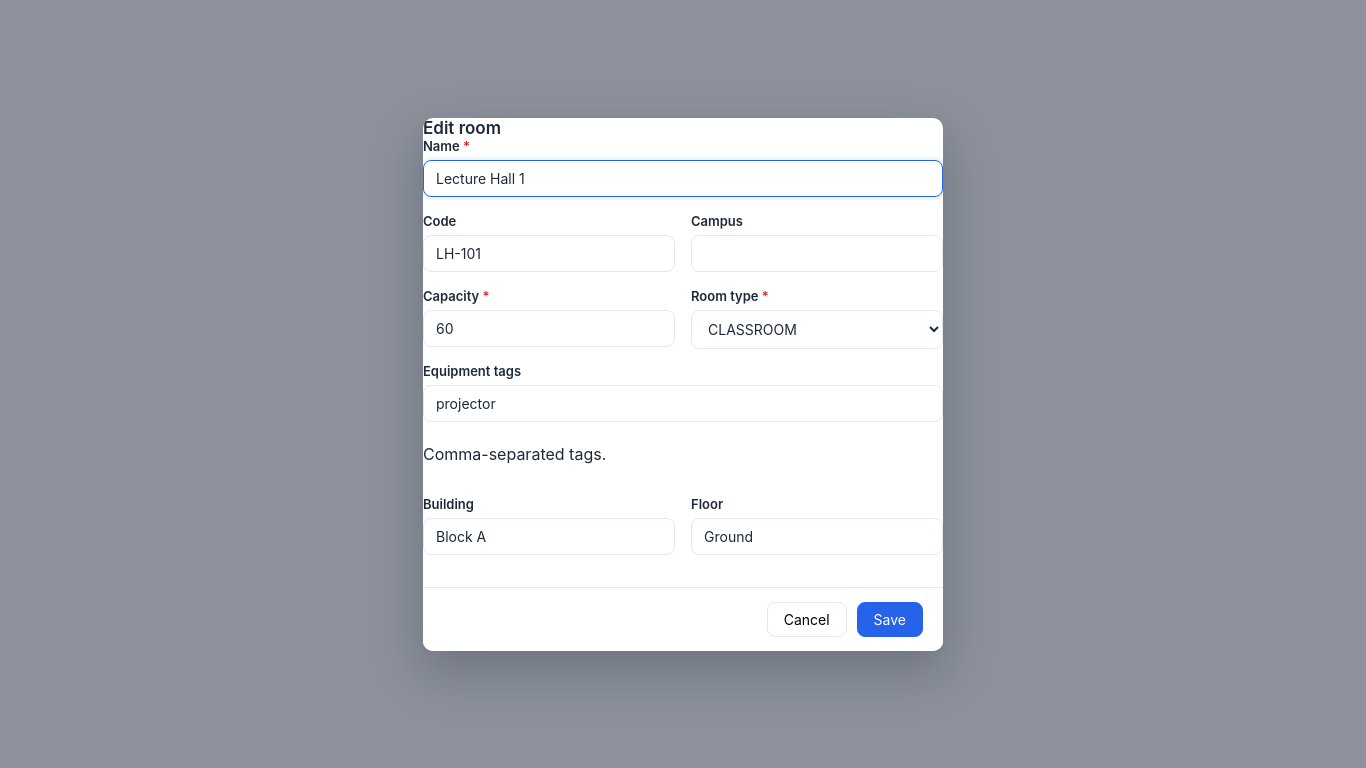
Test: RoomFormModal › edit mode › does not show code and campus in edit validation
Replace the text in the number field labelled "Capacity *" with "0" at (549, 328), box [423,310,675,346]
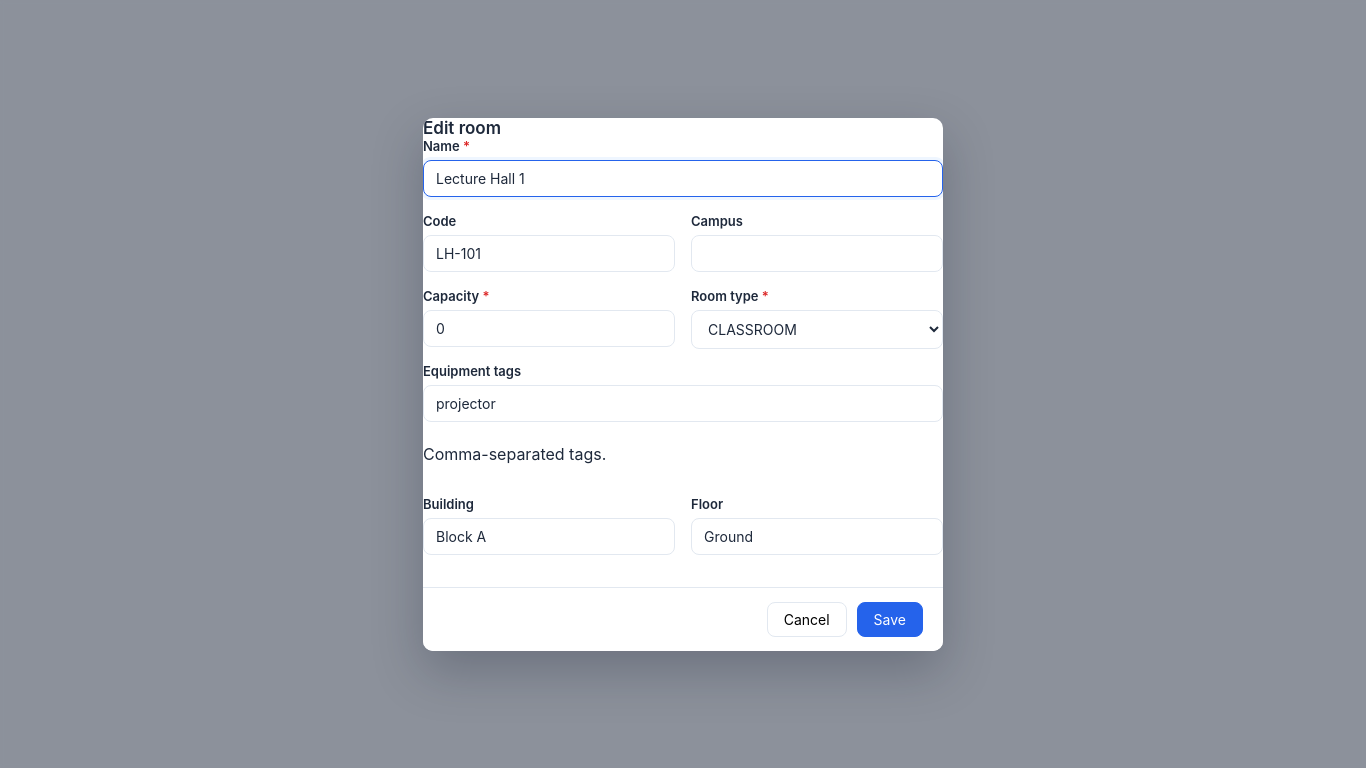
Click the button "Save".
click(890, 619)  # box [857,602,923,636]
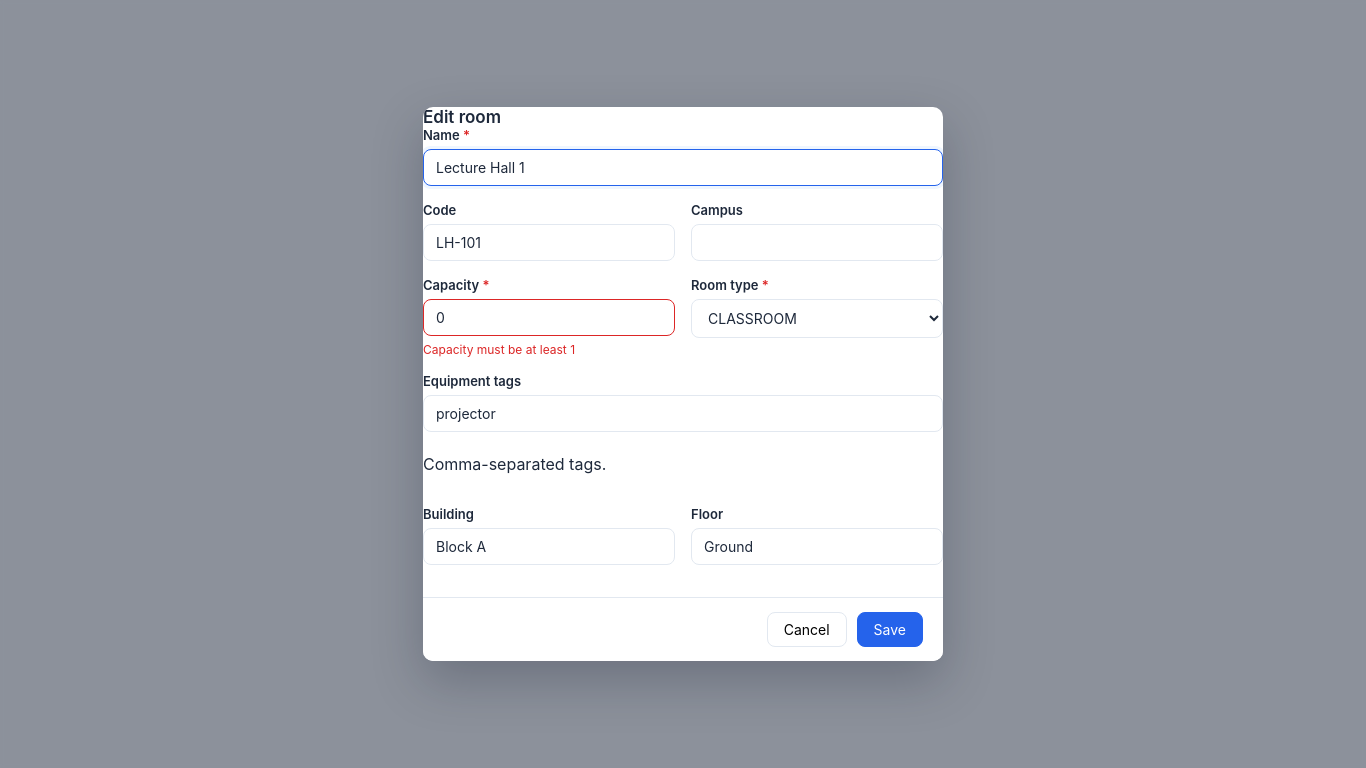
Result: the text "Capacity must be at least 1" is shown at [423,342,575,357]
